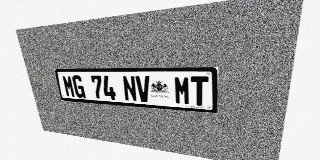4: (101, 75, 116, 100)
7: (90, 75, 105, 99)
G: (71, 75, 86, 98)
M: (174, 76, 190, 105), (62, 75, 76, 97)
N: (122, 76, 137, 102)
T: (191, 76, 208, 106)
V: (135, 76, 151, 103)
